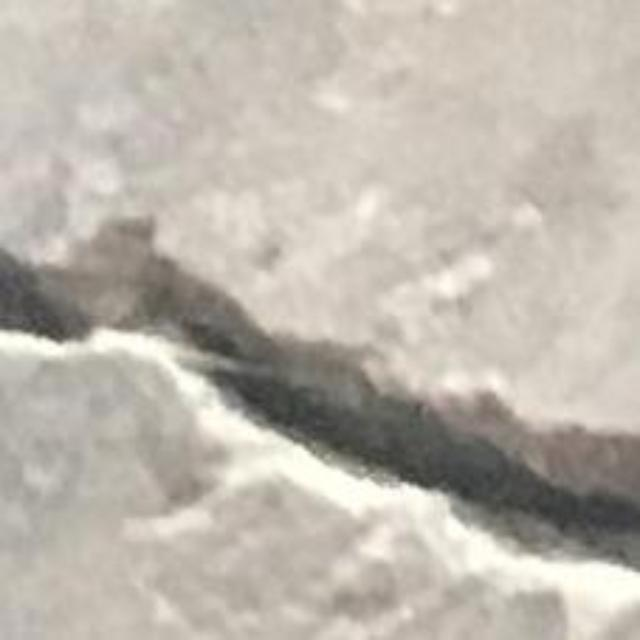crack: (0, 220, 639, 572)
